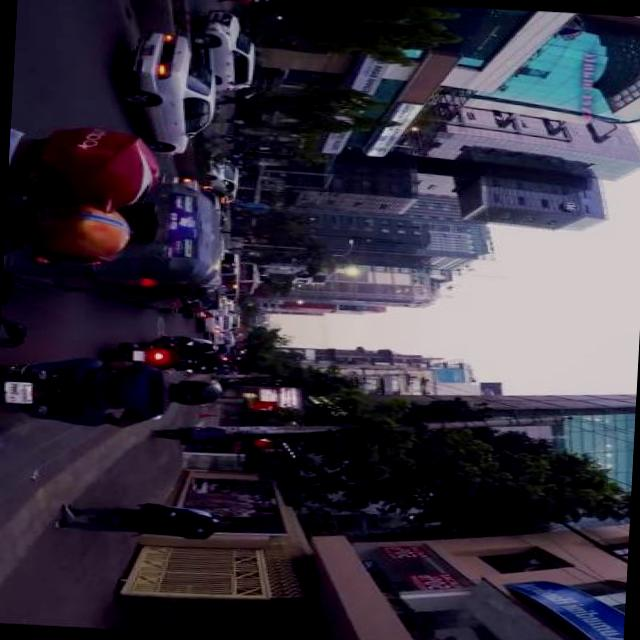bus: (236, 263, 264, 298)
car: (123, 34, 223, 160), (196, 10, 262, 94), (212, 160, 244, 198), (192, 298, 230, 324), (206, 314, 235, 336), (214, 330, 238, 348)
motorcycle: (10, 177, 226, 302), (0, 366, 80, 417), (106, 339, 202, 376)
